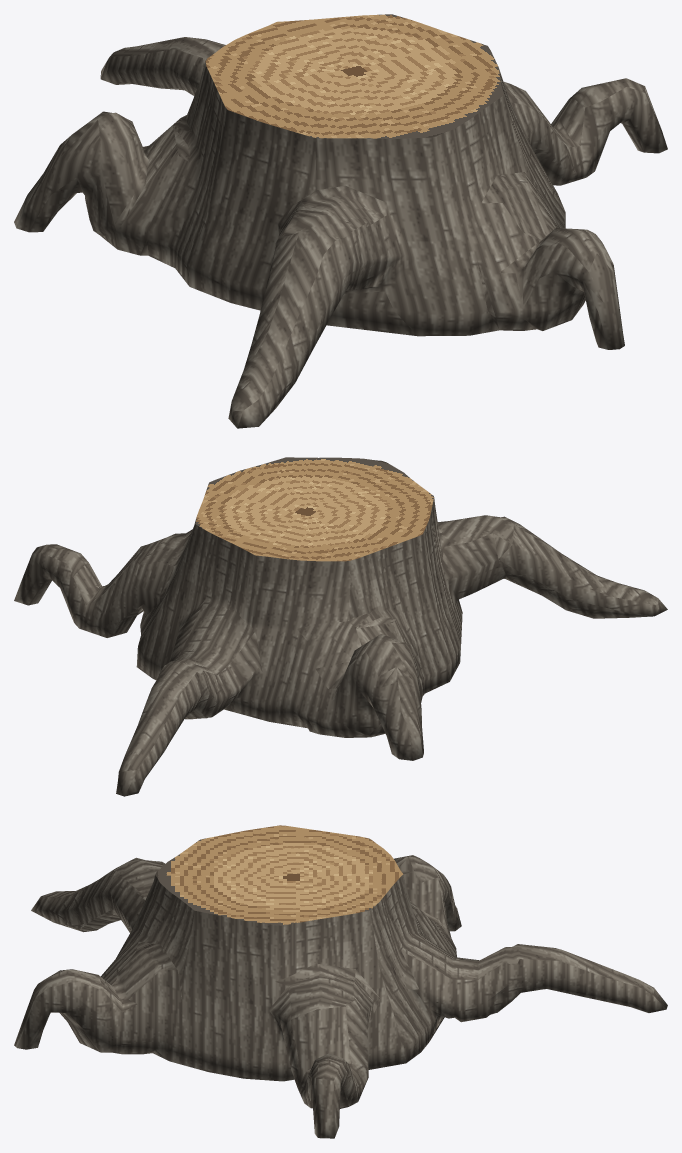
The model's file is environment_elm2_stump_v59.fbx.
3 views of the same model, one above another, from view 1: azimuth 30°, elevation 25°; view 2: azimuth 150°, elevation 25°; view 3: azimuth 270°, elevation 25° (orthographic). The views are drawn at different scales.
Parts seen in each view (by area): view 1: environment_elm2_stump_v59; view 2: environment_elm2_stump_v59; view 3: environment_elm2_stump_v59.
Boxes of the visible parts, bbox=[...] form: environment_elm2_stump_v59: bbox=[14, 14, 667, 428]; environment_elm2_stump_v59: bbox=[14, 457, 667, 796]; environment_elm2_stump_v59: bbox=[14, 825, 667, 1138].
Size of the model in its own units: 432 by 115 by 508.
2 materials, 2 textured.
